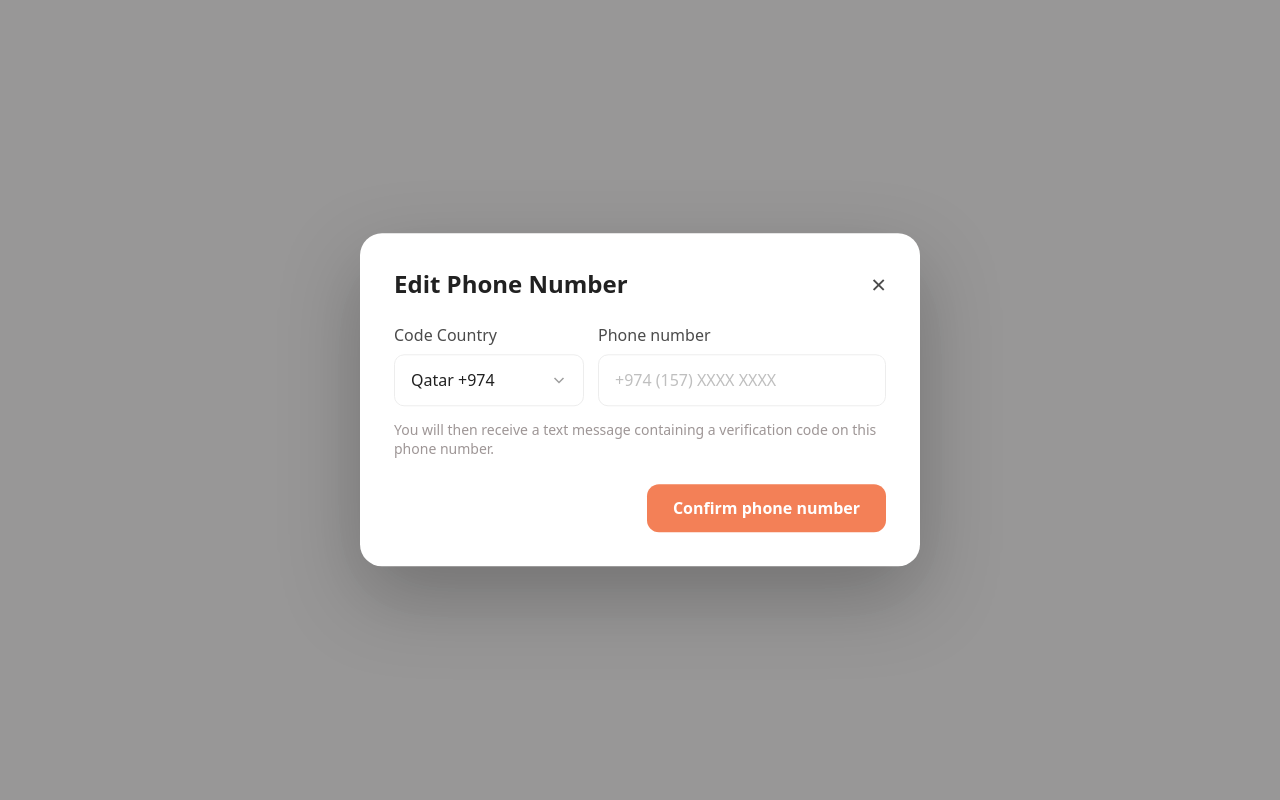
Scenario: EditPhoneDialog › refuses the number the account already has, before asking for any code
This screenshot has width=1280, height=800.
Step 1. Type "55512345" into the field with placeholder "+974 (157) XXXX XXXX" → (742, 380), box [598,354,886,406]
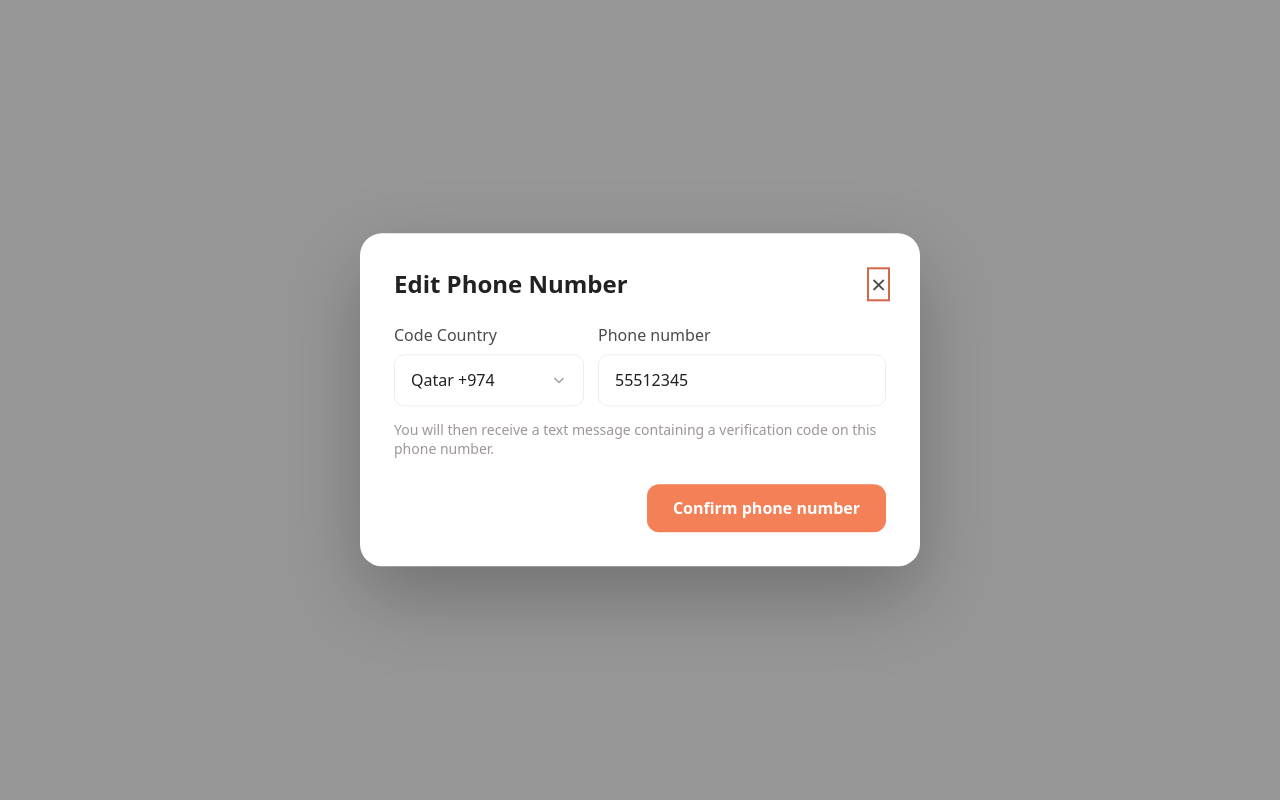
Step 2. Click the button "Confirm phone number" → (766, 508), box [647,484,886,533]
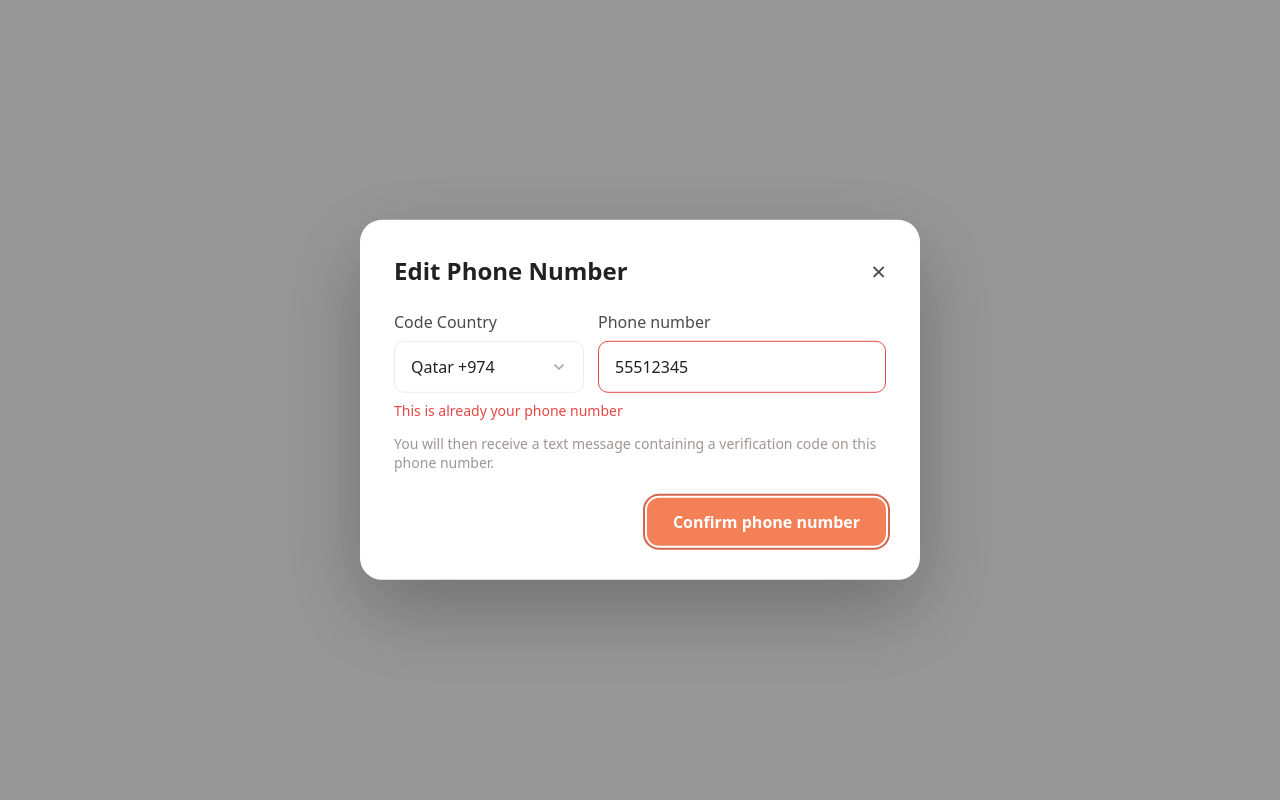
Check: the text "This is already your phone number" is shown, box [394,401,623,420]
